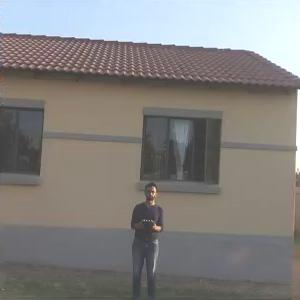follow: (122, 180, 165, 298)
